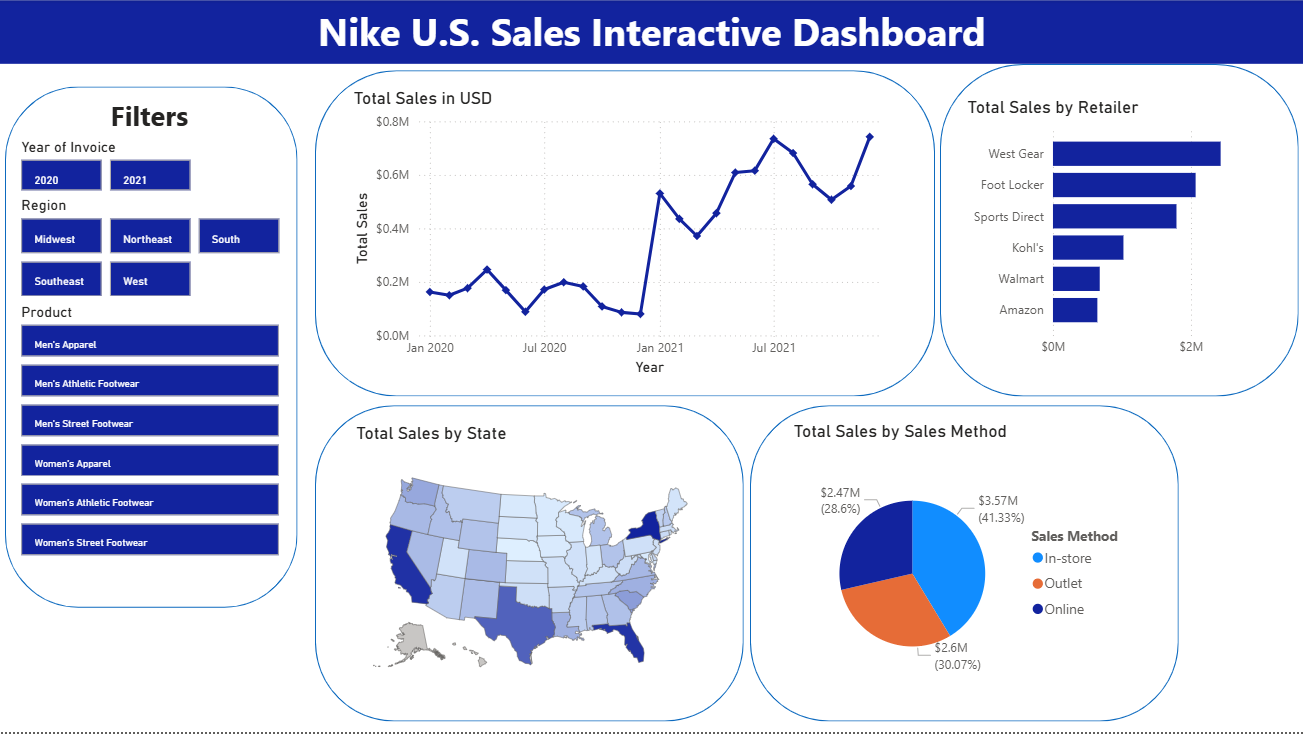

The dashboard page shown, as its layout file describes it:
{"tool":"powerbi","page":{"name":"Interactive Dashboard","canvas":[1280,720],"ordinal":1},"visuals":[{"type":"shape","box":[4.9,85.9,287.1,511.7],"z":0},{"type":"advancedSlicerVisual","title":"Year of Invoice","fields":{"Values":["Nike Dataset.Invoice Date.Variation.Date Hierarchy.Year"]},"box":[16,136.2,263.8,57.7],"z":1000},{"type":"advancedSlicerVisual","fields":{"Values":["Nike Dataset.Region"]},"box":[16,193.9,263.8,104.3],"z":2000},{"type":"textbox","box":[101.8,90.8,89.6,45.4],"z":3000},{"type":"advancedSlicerVisual","fields":{"Values":["Nike Dataset.Product"]},"box":[16,298.2,263.8,256.4],"z":4000},{"type":"shape","box":[309.2,398.8,420.9,310.4],"z":5000},{"type":"shapeMap","title":"Total Sales by State","fields":{"Category":["Nike Dataset.State"],"Value":["Sum(Nike Dataset.Total Sales)"]},"box":[344.8,416,352.1,274.8],"z":6000},{"type":"shape","box":[309.2,69.9,608.6,320.2],"z":7000},{"type":"lineChart","title":"Total Sales in USD","fields":{"Y":["Sum(Nike Dataset.Total Sales)"],"Category":["Nike Dataset.Invoice Date.Variation.Date Hierarchy.Year","Nike Dataset.Invoice Date.Variation.Date Hierarchy.Month"]},"box":[342.3,87.1,538.7,287.1],"z":8000},{"type":"shape","box":[736.2,398.8,420.9,310.4],"z":9000},{"type":"shape","box":[922.7,63.8,352.1,326.4],"z":10000},{"type":"clusteredBarChart","title":"Total Sales by Retailer","fields":{"Y":["Sum(Nike Dataset.Total Sales)"],"Category":["Nike Dataset.Retailer"]},"box":[944.8,95.7,309.2,263.8],"z":11000},{"type":"pieChart","title":"Total Sales by Sales Method","fields":{"Category":["Nike Dataset.Sales Method"],"Y":["Sum(Nike Dataset.Total Sales)"]},"box":[774.2,413.5,346,282.2],"z":12000},{"type":"textbox","box":[0,1.2,1279.8,62.6],"z":12001}]}

Visuals, with their boxes in screenshot pixels (x1, y1, x2, y2), scaled from the page's 1280x720 canvas onto the 1303x734 screenshot:
shape: crop(5, 88, 297, 609)
"Year of Invoice" advancedSlicerVisual: crop(16, 139, 285, 198)
advancedSlicerVisual - Nike Dataset.Region: crop(16, 198, 285, 304)
textbox: crop(104, 93, 195, 139)
advancedSlicerVisual - Nike Dataset.Product: crop(16, 304, 285, 565)
shape: crop(315, 407, 743, 723)
"Total Sales by State" shapeMap: crop(351, 424, 709, 704)
shape: crop(315, 71, 934, 398)
"Total Sales in USD" lineChart: crop(348, 89, 897, 381)
shape: crop(749, 407, 1178, 723)
shape: crop(939, 65, 1298, 398)
"Total Sales by Retailer" clusteredBarChart: crop(962, 98, 1277, 366)
"Total Sales by Sales Method" pieChart: crop(788, 422, 1140, 709)
textbox: crop(0, 1, 1302, 65)
